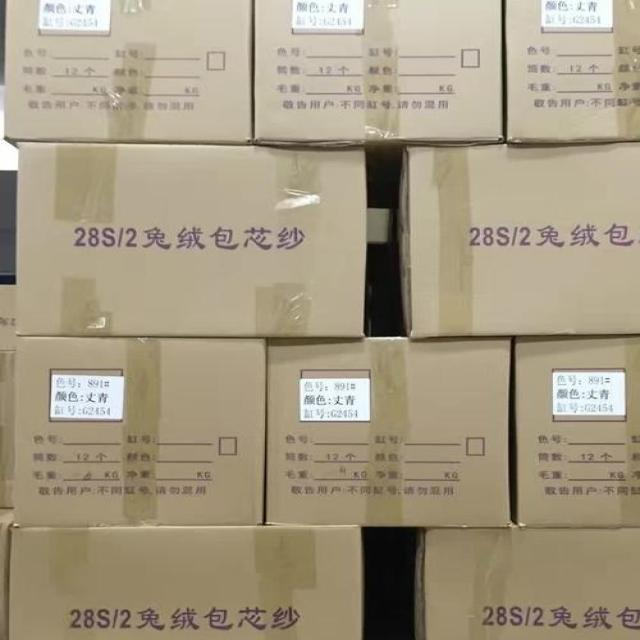box: (14, 141, 366, 337), (12, 336, 268, 526), (264, 336, 516, 527), (399, 142, 639, 336), (8, 526, 364, 640), (3, 0, 252, 149), (252, 0, 506, 145), (413, 527, 639, 640), (512, 335, 639, 528), (503, 0, 640, 144), (0, 351, 14, 509), (0, 509, 13, 639), (0, 285, 14, 350)
